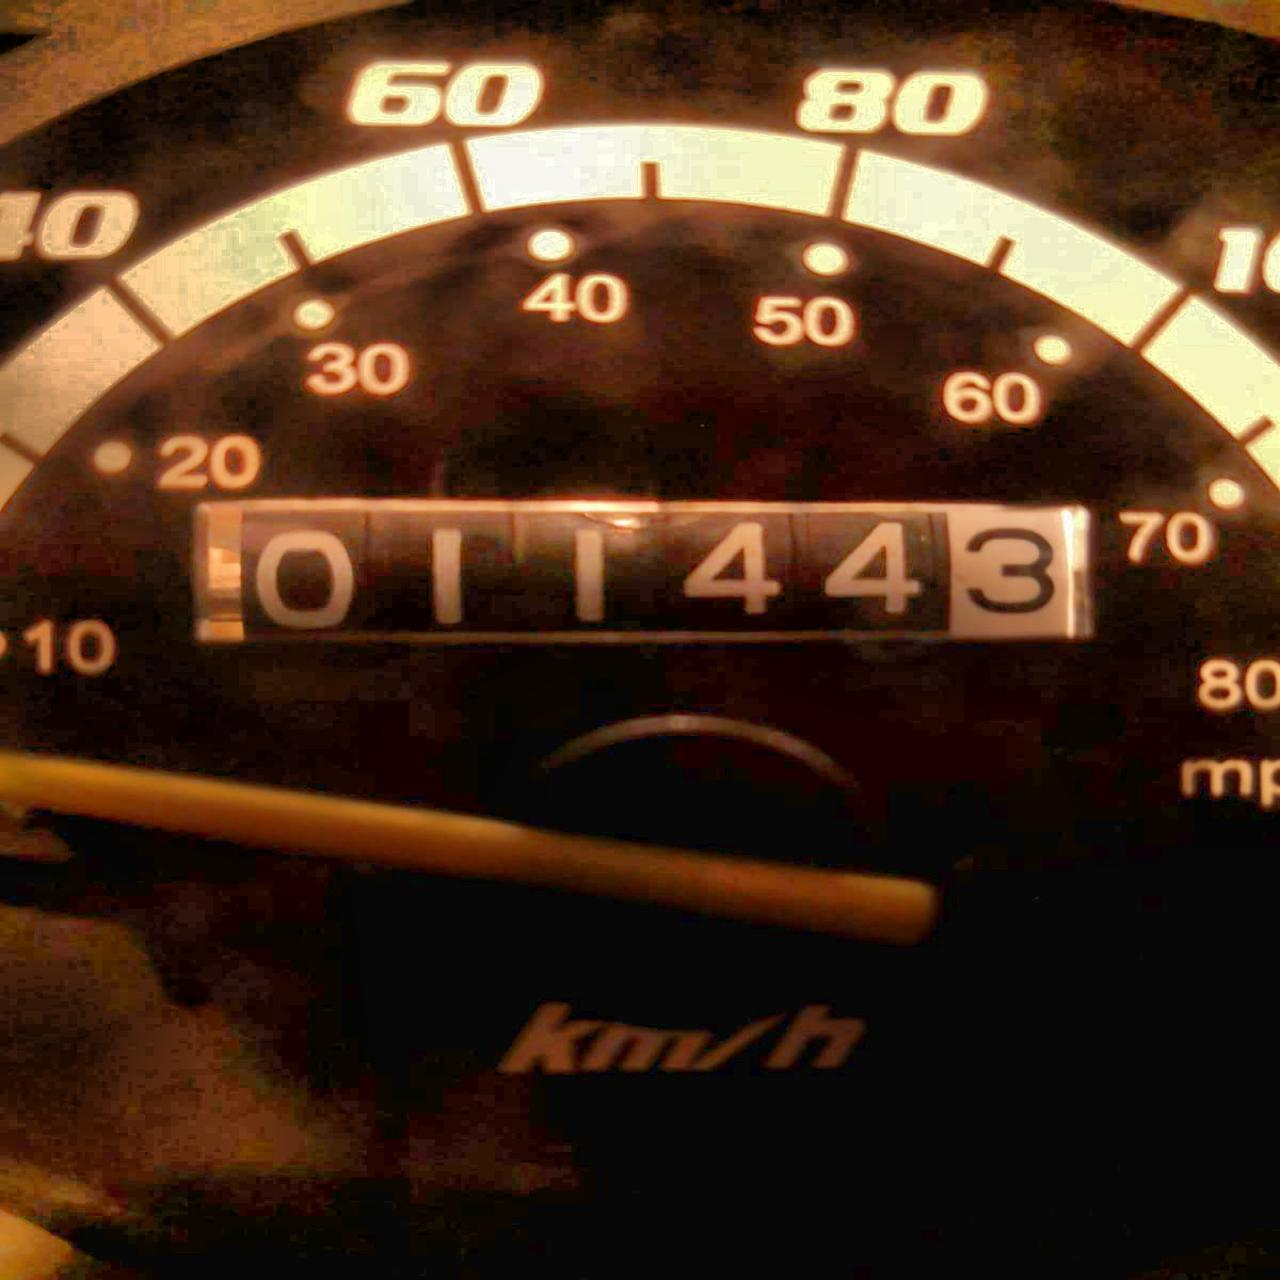0: (247, 524, 356, 626)
1: (418, 523, 474, 626), (560, 522, 613, 625)
3: (962, 527, 1058, 619)
4: (679, 518, 784, 618), (826, 518, 927, 615)
odometer: (185, 495, 1110, 648)
